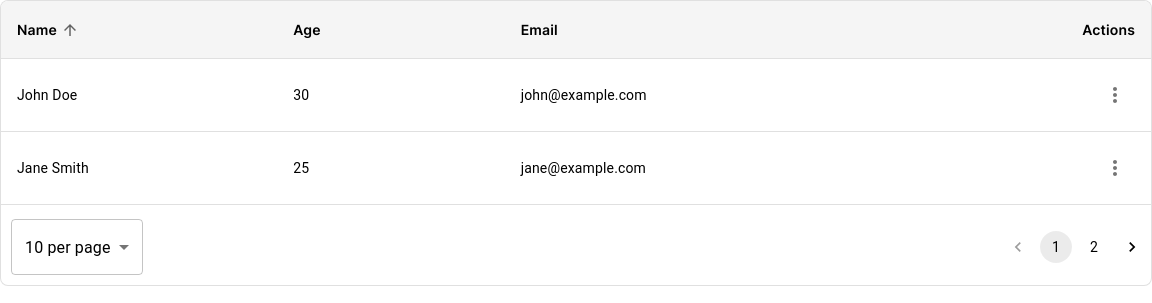
Test: DataTable › row actions › supports per-row hidden, disabled and dynamic labels
Click the button named "Actions for John Doe".
click(1115, 95)  # box [1095,75,1135,115]
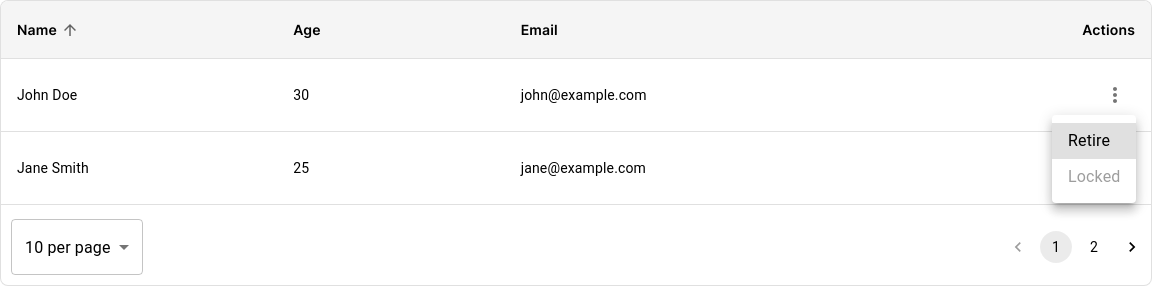
Result: the menu item "Retire" is shown at [1052,123,1136,159]
